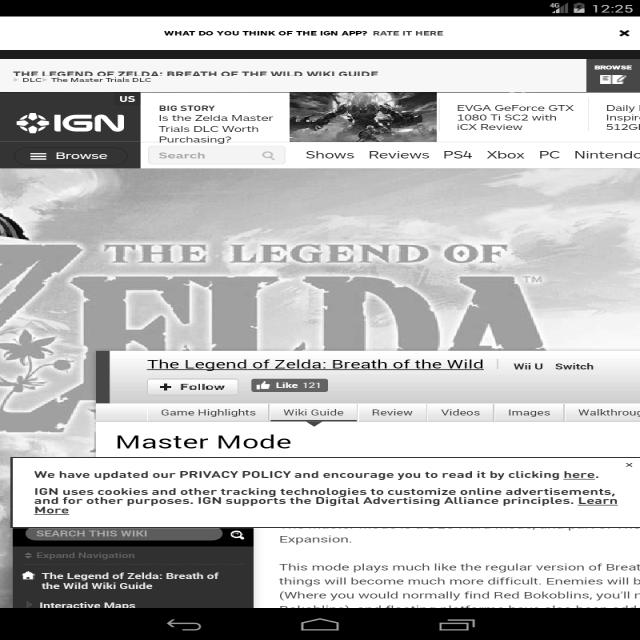ImageButton: (143, 377, 245, 398), (606, 25, 636, 40)
ImageView: (289, 94, 436, 142), (588, 60, 638, 90), (14, 112, 48, 134)
TextView: (28, 485, 626, 515), (277, 559, 637, 606), (103, 240, 516, 266), (450, 99, 584, 135), (147, 358, 486, 372), (40, 571, 230, 593), (112, 432, 294, 454), (12, 68, 388, 78), (53, 110, 131, 134), (155, 405, 261, 419), (301, 147, 360, 163), (278, 532, 356, 544), (437, 406, 487, 418), (511, 359, 548, 372), (537, 148, 568, 162)
